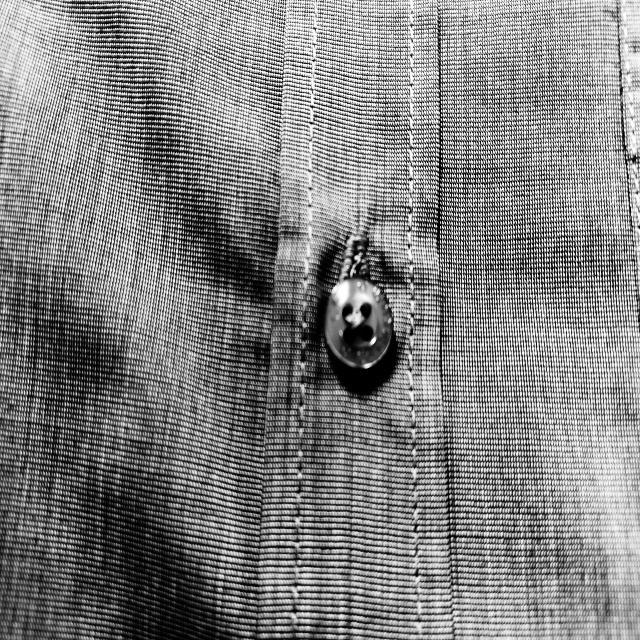Button_hike: (320, 218, 403, 386)
